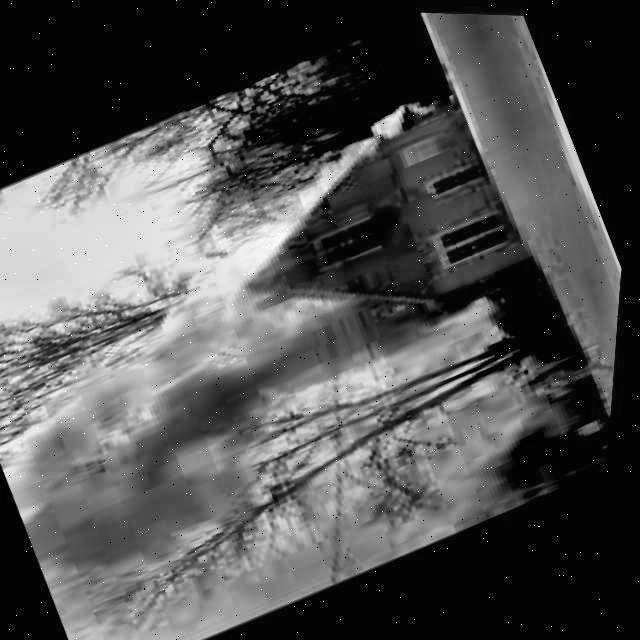Smoke: (0, 193, 567, 640)
